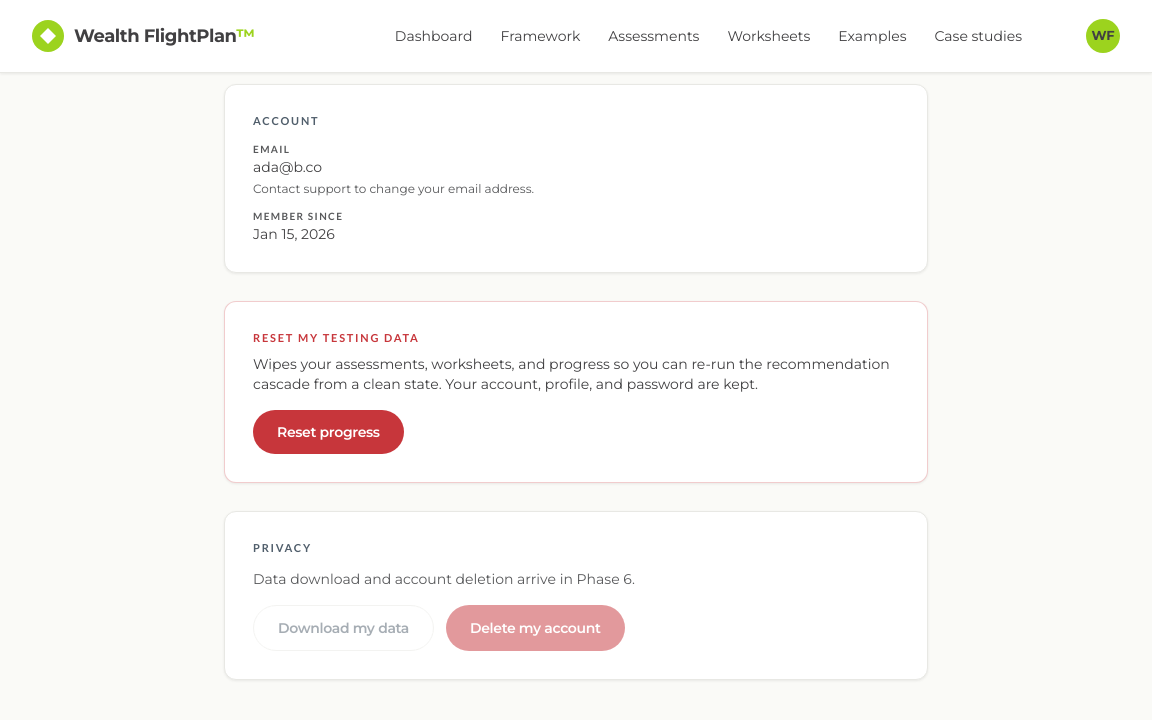
Test: ProfilePage › opens the reset modal when "Reset progress" is clicked
(page scrolled)
Expected: the text "ada@b.co" is shown, [253,158,322,176]
What coordinates should you click on to do the following:
click the button with aria-label "open reset progress confirmation"
I would click on:
 (328, 432)
Its box is [253,410,404,454].
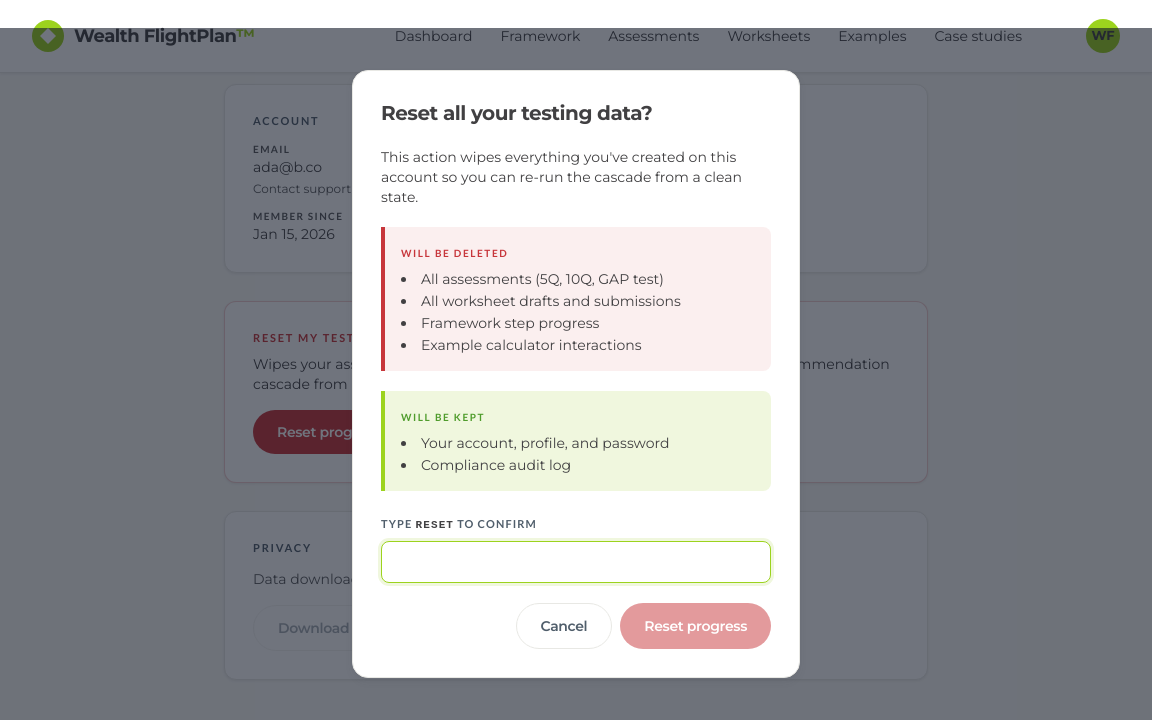
Now the dialog is shown
Now the heading "Reset all your testing data?" is shown, box [381,101,652,125]
